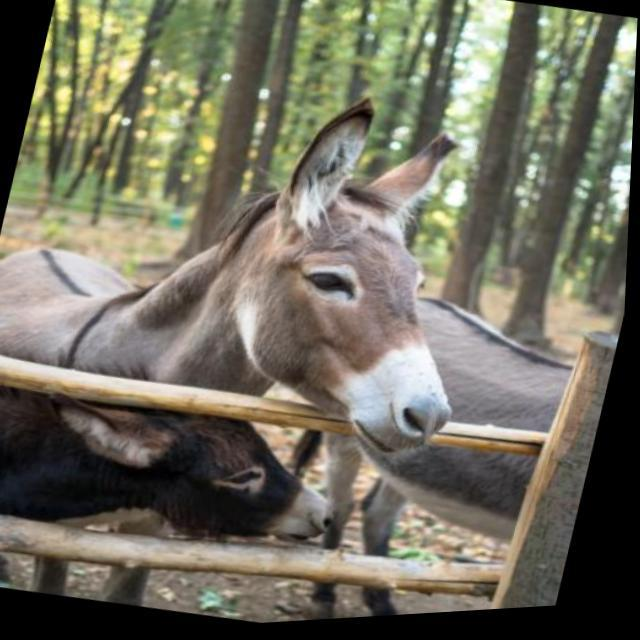Donkey: (0, 33, 524, 640), (258, 270, 628, 627), (0, 362, 359, 640)
